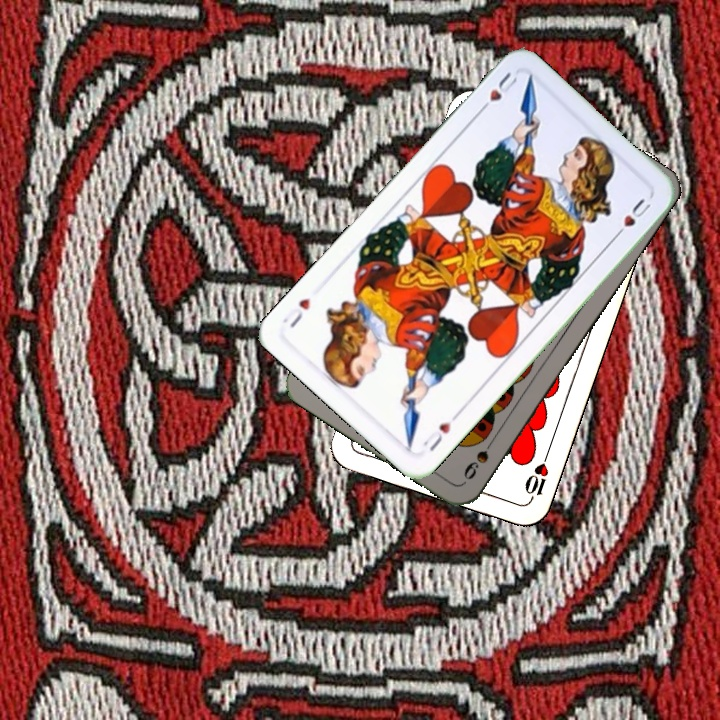H10: (520, 448, 552, 505)
HU: (474, 67, 522, 116), (418, 409, 462, 454)
S9: (459, 431, 499, 483)
